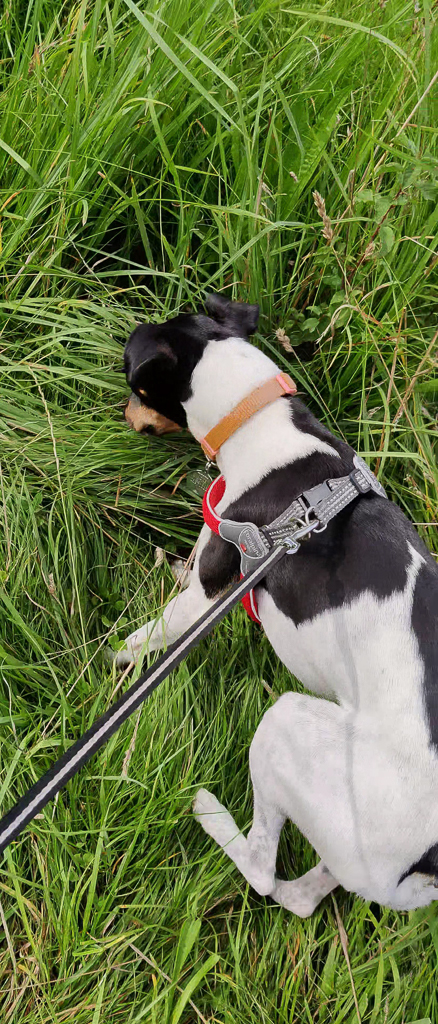Dog: (88, 275, 438, 952)
